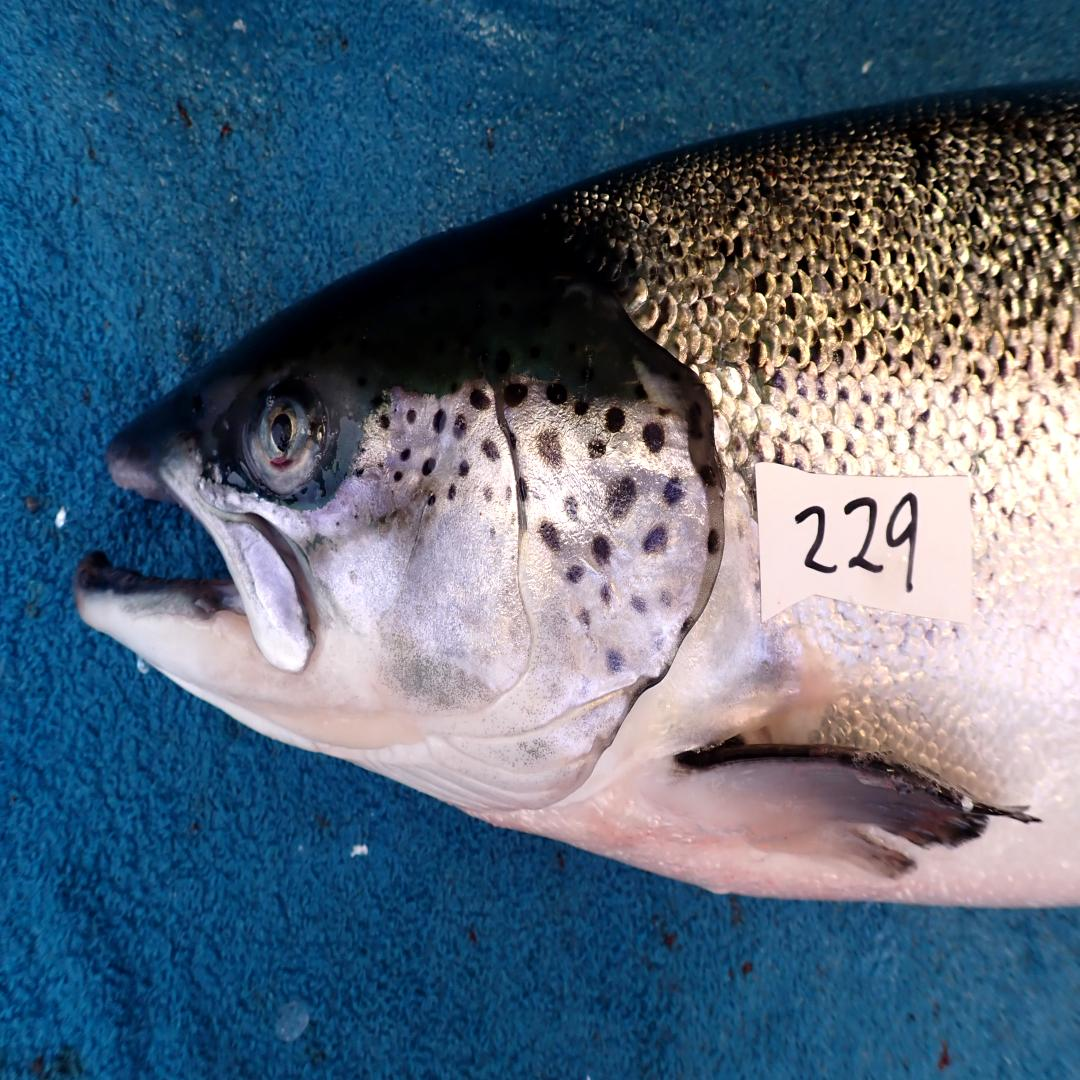roi: (312, 373, 720, 822)
